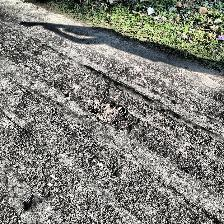pothole: (93, 101, 127, 125)
